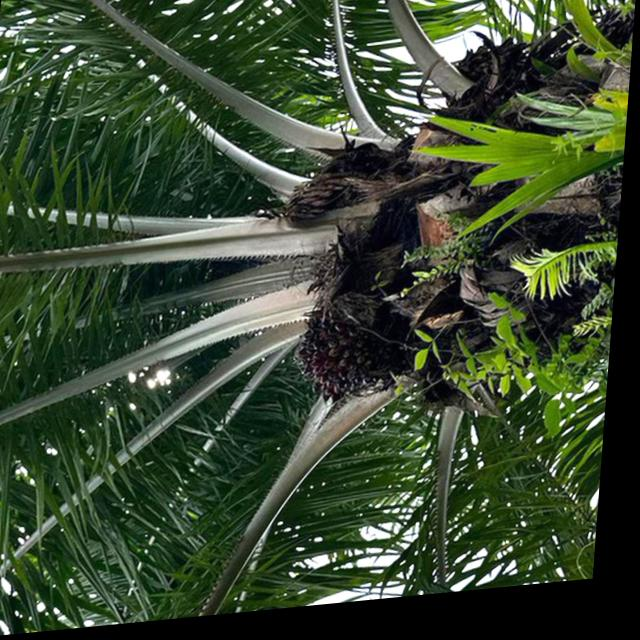ripe: (291, 302, 406, 424)
